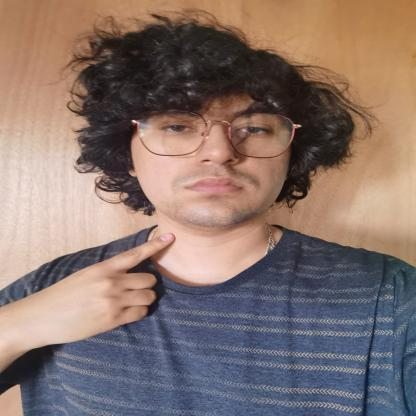Q: (47, 232, 176, 332)
